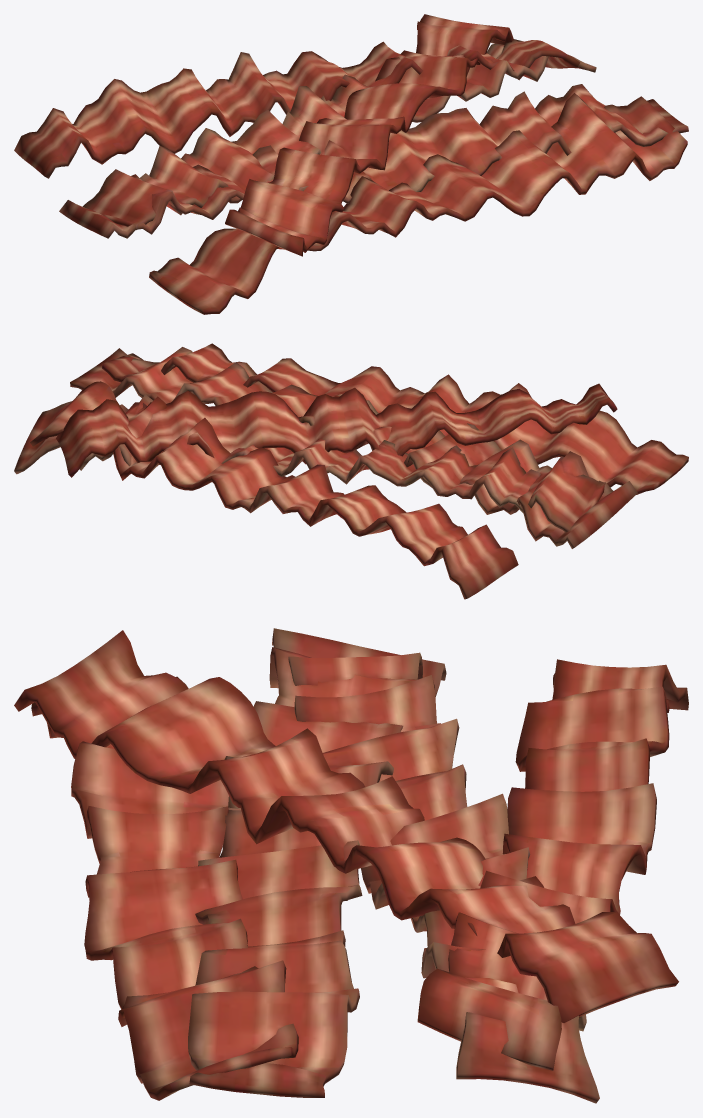
File: tocino.glb
3 renders of one model, top to bottom at view 1: azimuth 30°, elevation 25°; view 2: azimuth 150°, elevation 25°; view 3: azimuth 270°, elevation 25°, orthographic. The views are drawn at different scales.
Parts seen in each view (by area): view 1: tocino; view 2: tocino; view 3: tocino.
Part boxes in pixels (x1,y1,x2,y2): tocino: (14, 14, 688, 314); tocino: (14, 343, 688, 599); tocino: (14, 628, 688, 1103).
Bounding box in the file's own units: 2.66 × 0.3569 × 1.75.
Materials: 1 (1 with a texture image).
